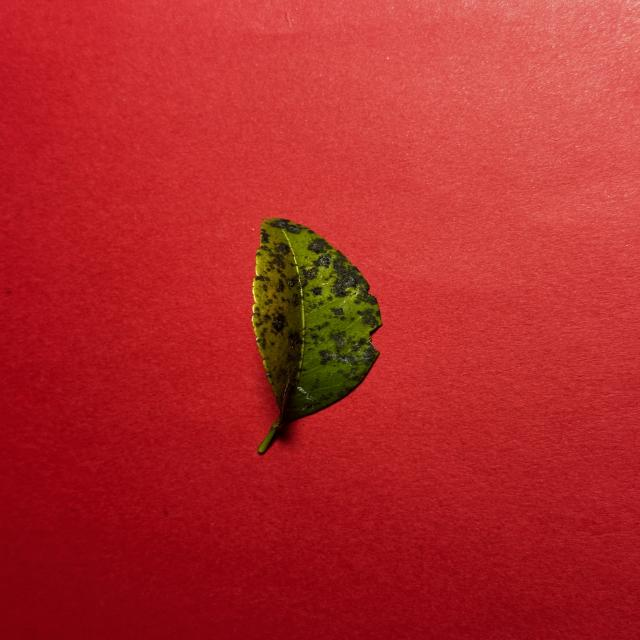sooty_mold: (252, 218, 381, 453)
